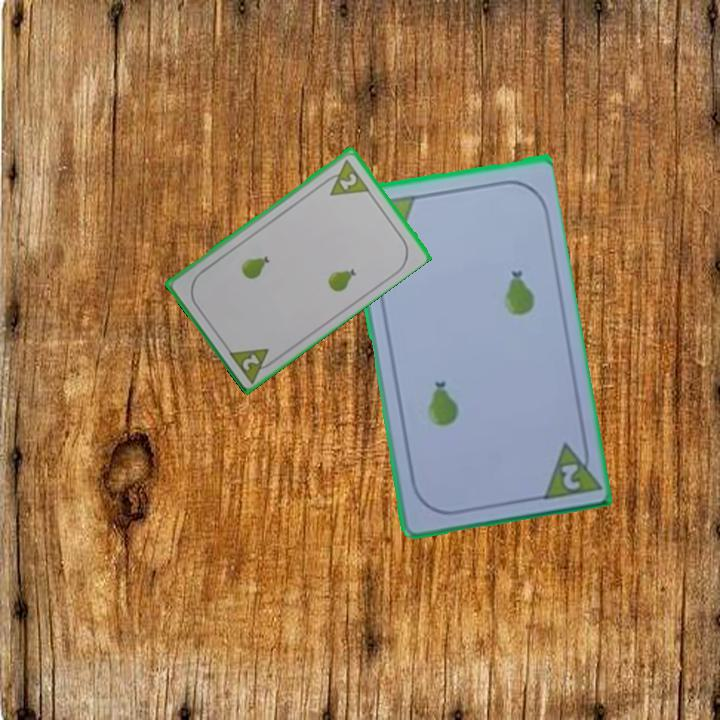2p: (319, 155, 372, 199), (224, 344, 280, 385), (557, 459, 583, 493)
